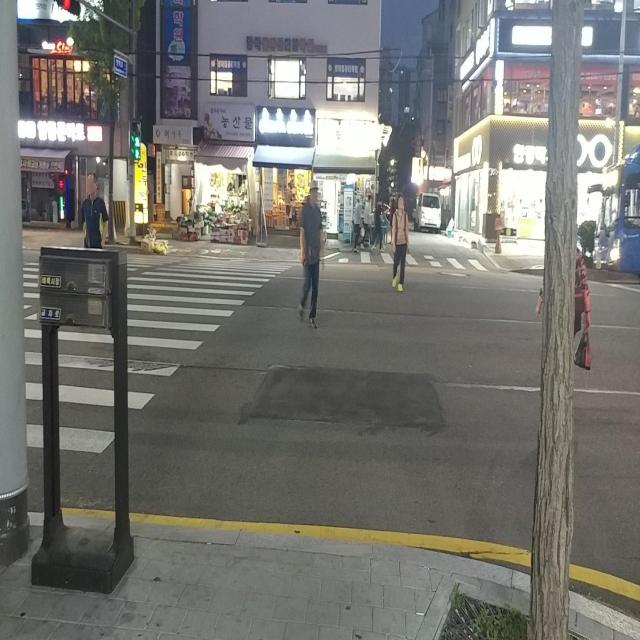횡단보도: (21, 252, 301, 459), (340, 236, 498, 270)
